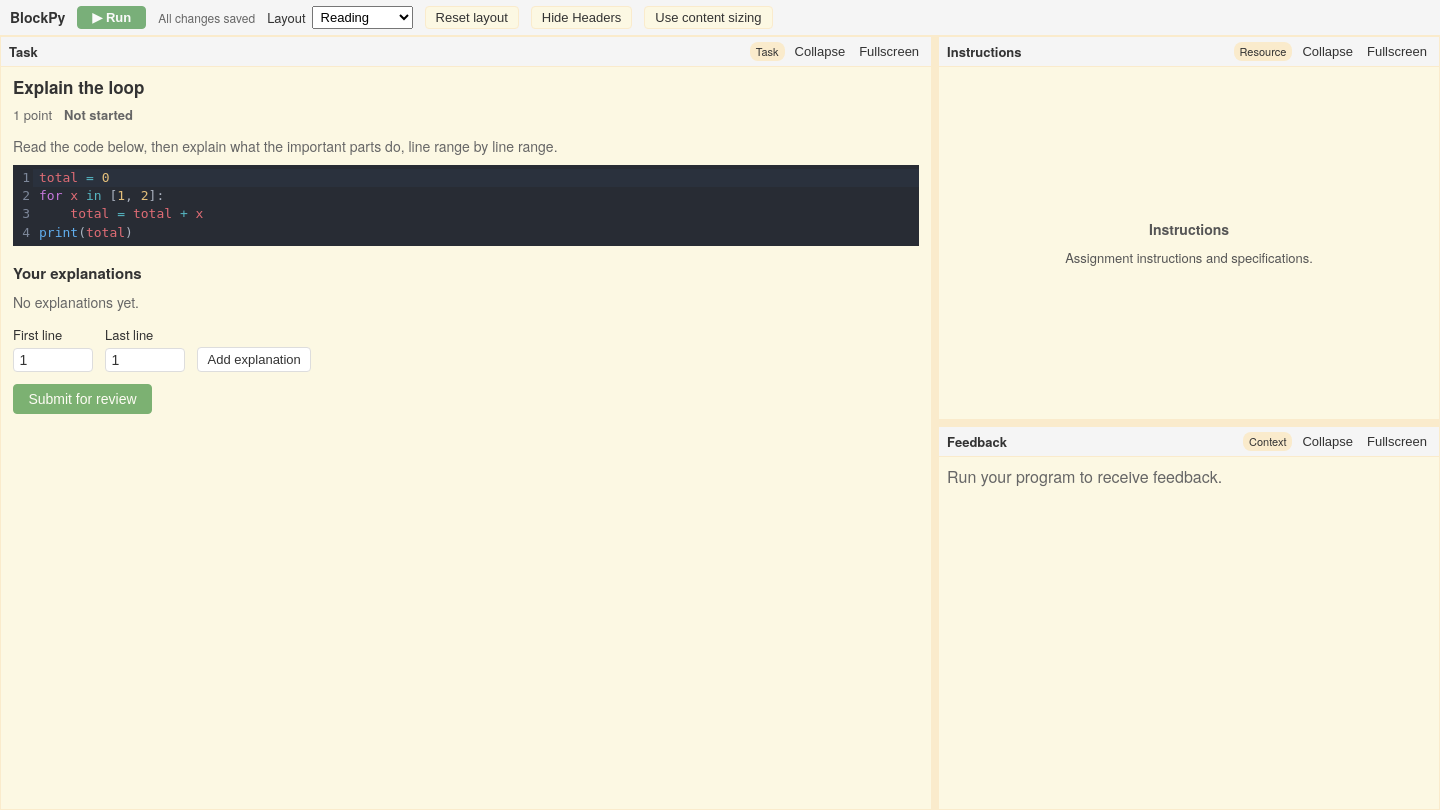
Test: ExplainTask › rejects line ranges outside the target code
The image size is (1440, 810).
Replace the text in the number field labelled "Last line" with "99": x=145, y=360 [105,348,185,372]
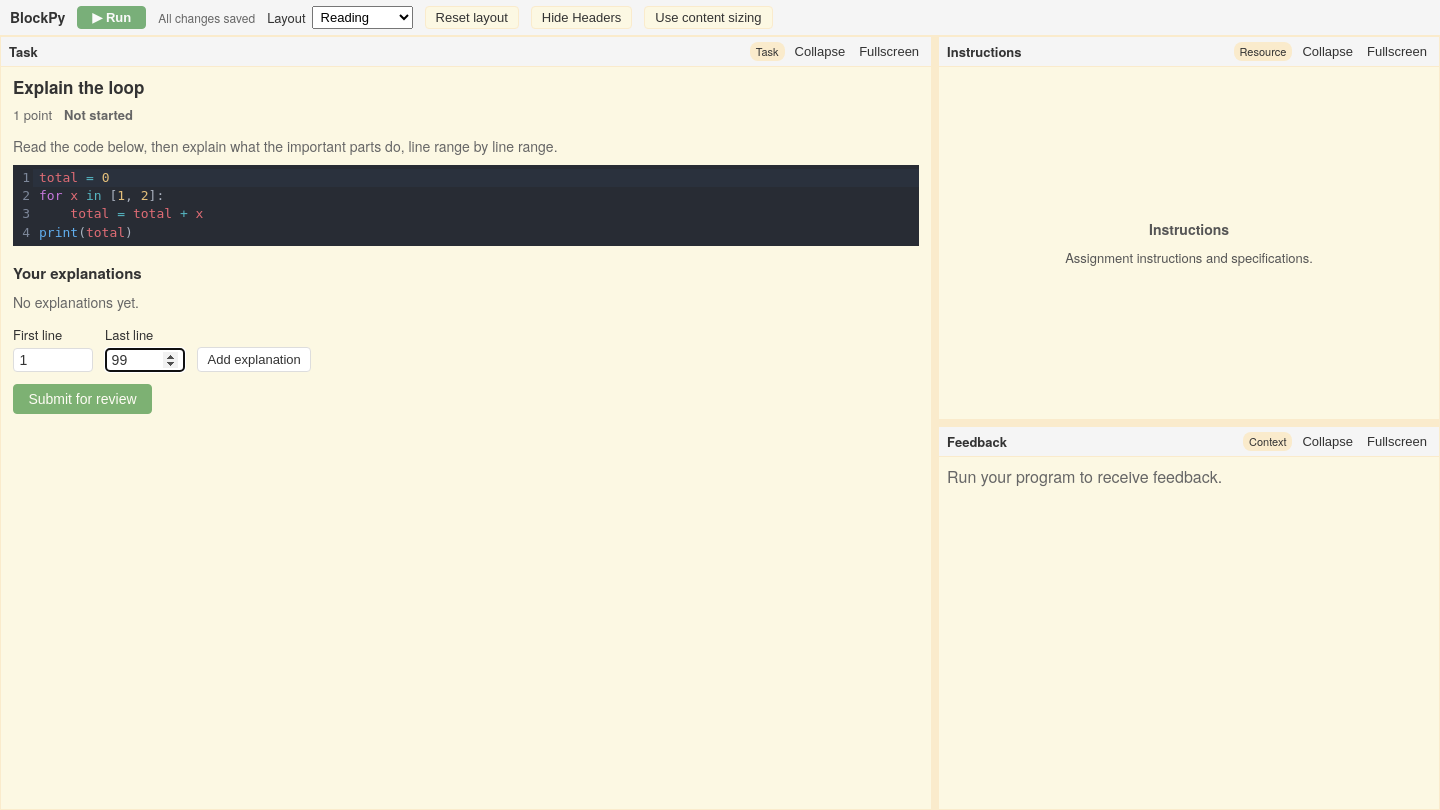
Click the button "Add explanation": x=254, y=360 [197,347,311,372]
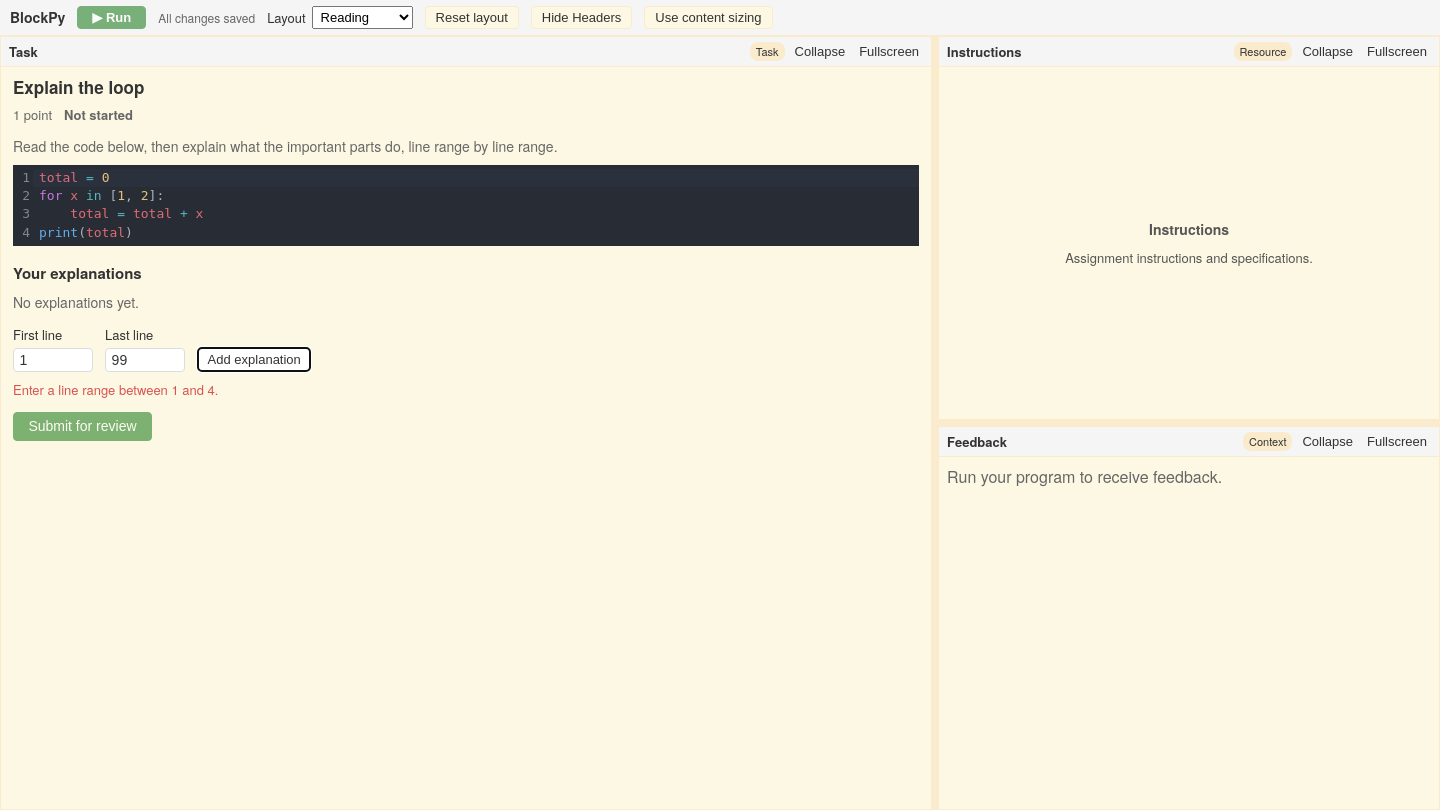
Now the message "Enter a line range between 1 and 4." is shown, box [13,380,218,399]
